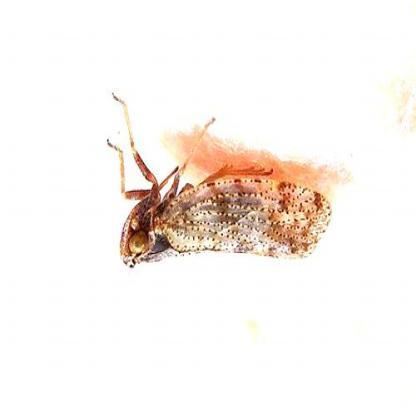brown-planthopper: (102, 92, 330, 270)
